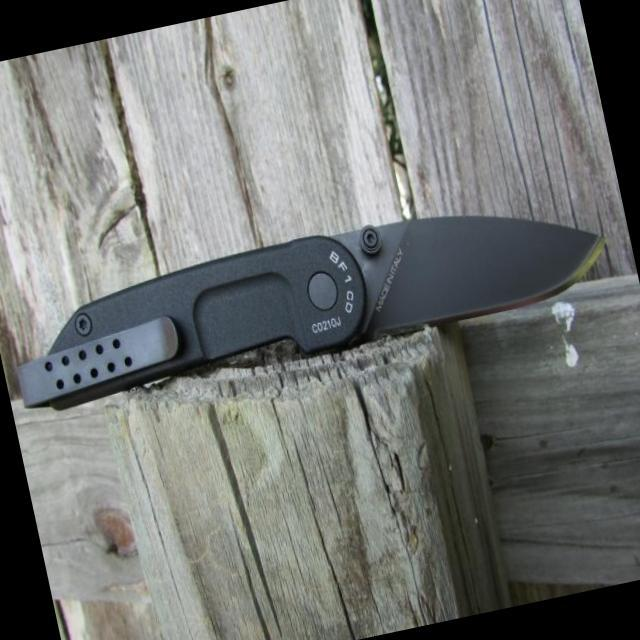Knife: (300, 168, 630, 358)
